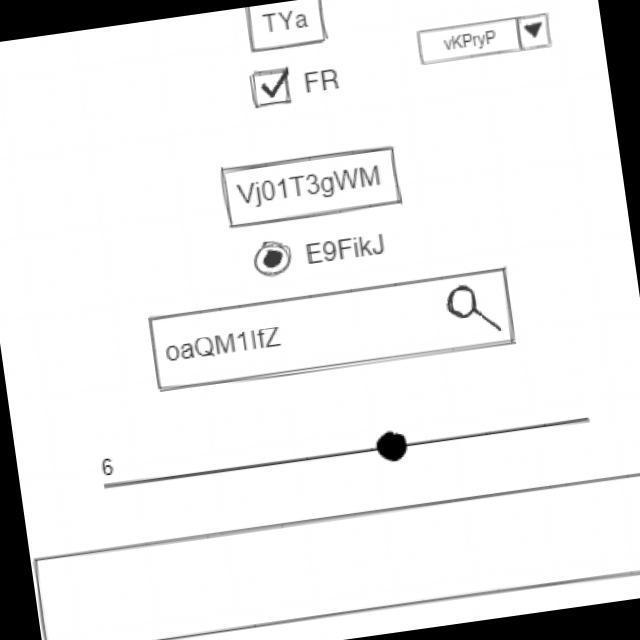button: (217, 142, 408, 233), (242, 1, 333, 57)
checkbox: (247, 59, 348, 114)
container: (30, 465, 640, 640)
radio: (250, 240, 296, 281)
search: (146, 262, 524, 398)
select: (413, 9, 558, 72)
slider: (120, 398, 598, 504)
